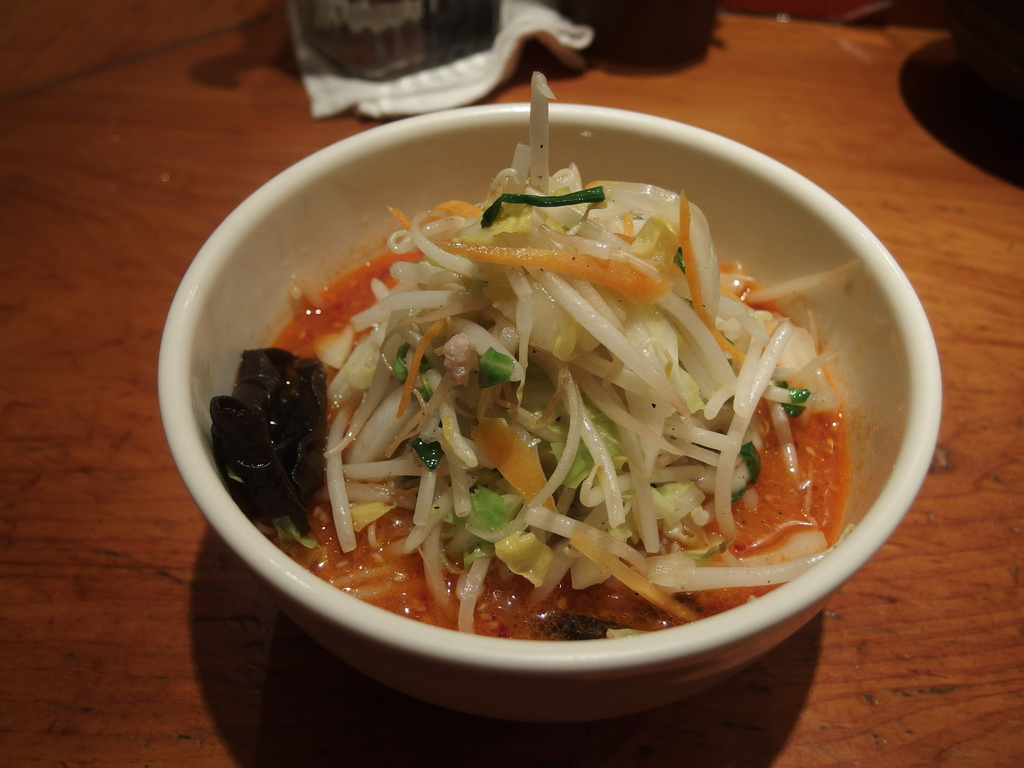salad: (210, 72, 854, 659)
